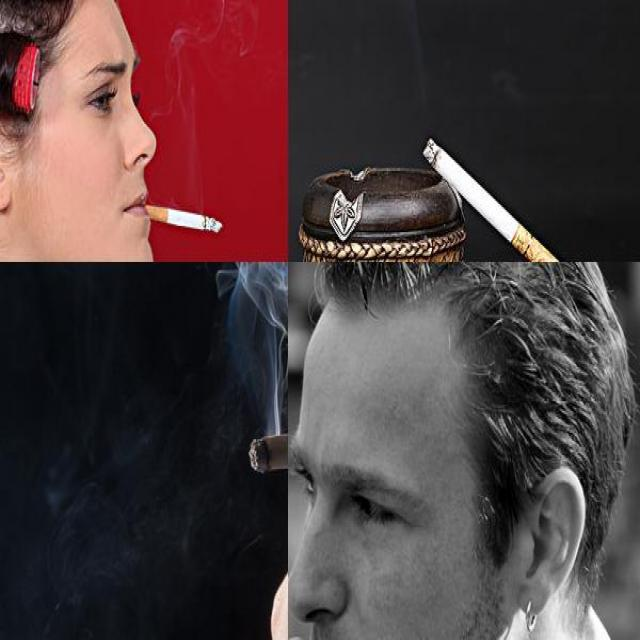cigarette: (418, 112, 578, 260), (139, 200, 224, 236), (246, 416, 287, 476)
